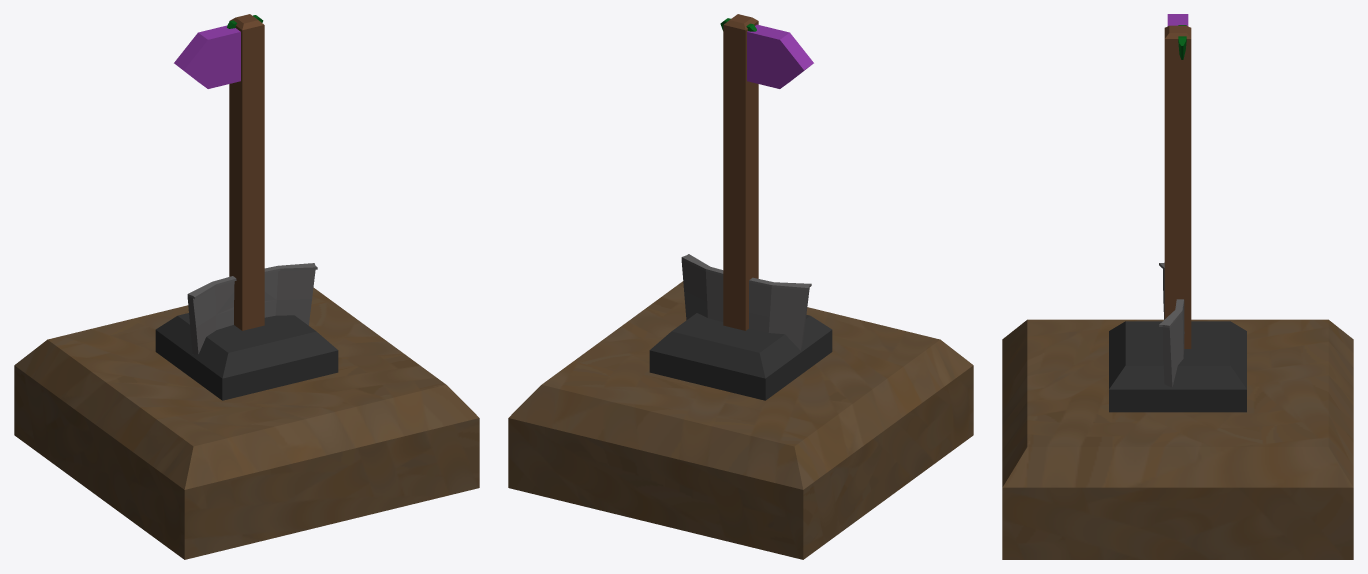
The model's file is Grounf.glb.
3 views of the same model, side by side, from view 1: azimuth 30°, elevation 25°; view 2: azimuth 150°, elevation 25°; view 3: azimuth 270°, elevation 25° (orthographic). The views are drawn at different scales.
Visible parts, largest first — view 1: Ground_top, Ground, Flag, Shovel; view 2: Ground_top, Ground, Flag, Shovel; view 3: Ground_top, Ground, Flag, Shovel.
Part boxes in pixels (x1,y1,x2,y2): Ground_top: [14, 287, 478, 489]; Ground: [14, 365, 479, 559]; Flag: [155, 14, 338, 400]; Shovel: [187, 15, 317, 354]; Ground_top: [509, 281, 973, 489]; Ground: [508, 365, 973, 559]; Flag: [649, 14, 832, 400]; Shovel: [681, 18, 811, 350]; Ground_top: [1002, 319, 1353, 487]; Ground: [1002, 487, 1353, 559]; Flag: [1109, 14, 1246, 412]; Shovel: [1159, 25, 1186, 387].
Size of the model in its own units: 2 by 2.87 by 2.
3 materials, 3 textured.
